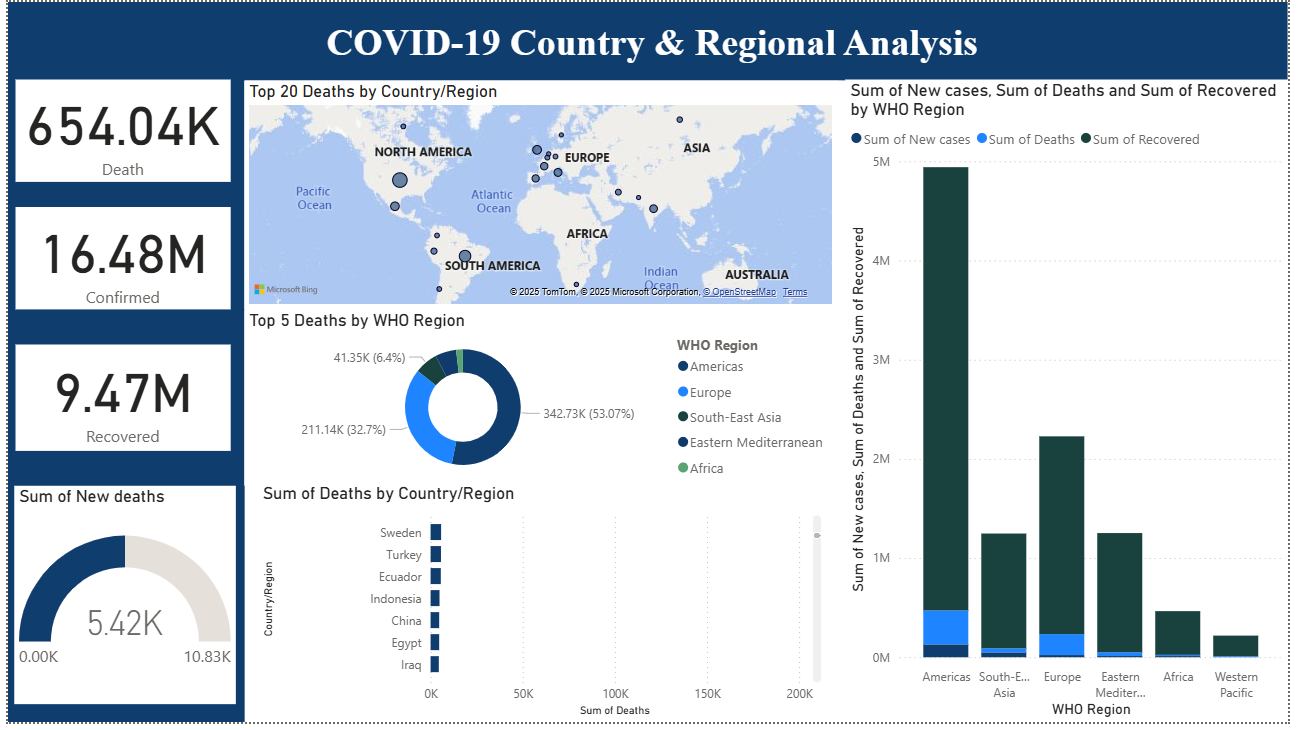

What the dashboard file says about the page in this screenshot:
{"tool":"powerbi","page":{"name":"Covid-19 Country & Regional Analysis","canvas":[1280,720],"ordinal":0},"visuals":[{"type":"shape","box":[0,0,236.7,720],"z":0},{"type":"shape","box":[221.7,0,1058.3,78.3],"z":1000},{"type":"textbox","box":[250,13.3,788.3,55],"z":2000},{"type":"card","fields":{"Values":["Sum(CovidCountryWise.Deaths)"]},"box":[7,78,215,102],"z":3000},{"type":"card","fields":{"Values":["Sum(CovidCountryWise.Confirmed)"]},"box":[7,205,215,102],"z":4000},{"type":"card","fields":{"Values":["Sum(CovidCountryWise.Recovered)"]},"box":[7,343,215,106],"z":5000},{"type":"map","fields":{"Category":["CovidCountryWise.Country/Region"],"Size":["Sum(CovidCountryWise.Deaths)"]},"box":[236.7,78.3,593.3,228.3],"z":6000},{"type":"donutChart","fields":{"Category":["CovidCountryWise.WHO Region"],"Y":["Sum(CovidCountryWise.Deaths)"]},"box":[236.4,307.3,593.6,176.4],"z":7000},{"type":"barChart","fields":{"Category":["CovidCountryWise.Country/Region"],"Y":["Sum(CovidCountryWise.Deaths)","Sum(CovidCountryWise.Active)"]},"box":[250,481.7,568.3,238.3],"z":7001},{"type":"columnChart","fields":{"Category":["CovidCountryWise.WHO Region"],"Y":["Sum(CovidCountryWise.New cases)","Sum(CovidCountryWise.Deaths)","Sum(CovidCountryWise.Recovered)"]},"box":[837.5,77.5,442.5,642.5],"z":7002},{"type":"gauge","fields":{"Y":["Sum(CovidCountryWise.New deaths)"]},"box":[6.7,483.3,221.7,218.3],"z":7003}]}

Visuals, with their boxes in screenshot pixels (x1, y1, x2, y2), scaled from the page's 1280x720 canvas onto the 1302x730 screenshot:
shape: (0,0,241,729)
shape: (226,0,1301,79)
textbox: (254,13,1056,69)
card - Sum(CovidCountryWise.Deaths): (7,79,226,182)
card - Sum(CovidCountryWise.Confirmed): (7,208,226,311)
card - Sum(CovidCountryWise.Recovered): (7,348,226,455)
map - CovidCountryWise.Country/Region x Sum(CovidCountryWise.Deaths): (241,79,844,311)
donutChart - CovidCountryWise.WHO Region x Sum(CovidCountryWise.Deaths): (240,312,844,490)
barChart - CovidCountryWise.Country/Region x Sum(CovidCountryWise.Deaths): (254,488,832,729)
columnChart - CovidCountryWise.WHO Region x Sum(CovidCountryWise.New cases): (852,79,1301,729)
gauge - Sum(CovidCountryWise.New deaths): (7,490,232,711)
